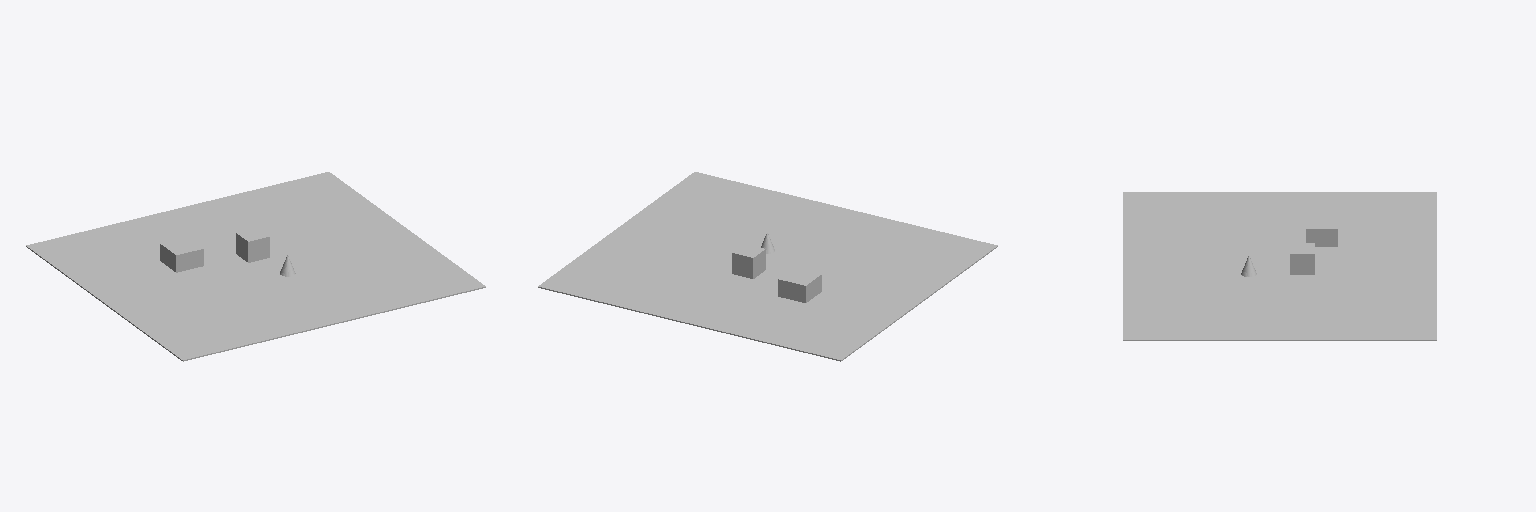
File: testscene.obj
3 views of the same model, side by side, from view 1: azimuth 30°, elevation 25°; view 2: azimuth 150°, elevation 25°; view 3: azimuth 270°, elevation 25° (orthographic).
Parts seen in each view (by area): view 1: Cube_Mesh, Cube.002_Mesh, Cube.001_Mesh; view 2: Cube_Mesh, Cube.002_Mesh, Cube.001_Mesh; view 3: Cube_Mesh, Cube.002_Mesh, Cube.001_Mesh.
Part boxes in pixels (left/top/right/bottom): Cube_Mesh: left=26, top=172, right=485, bottom=361; Cube.002_Mesh: left=160, top=237, right=203, bottom=272; Cube.001_Mesh: left=236, top=228, right=269, bottom=262; Cube_Mesh: left=538, top=172, right=997, bottom=361; Cube.002_Mesh: left=778, top=268, right=821, bottom=302; Cube.001_Mesh: left=732, top=244, right=765, bottom=278; Cube_Mesh: left=1123, top=192, right=1436, bottom=340; Cube.002_Mesh: left=1306, top=216, right=1337, bottom=246; Cube.001_Mesh: left=1290, top=243, right=1314, bottom=274.
Bounding box in the file's own units: 27.12 × 1.92 × 24.31.